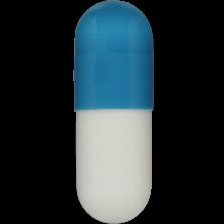68151-4486: (0, 0, 224, 224)
